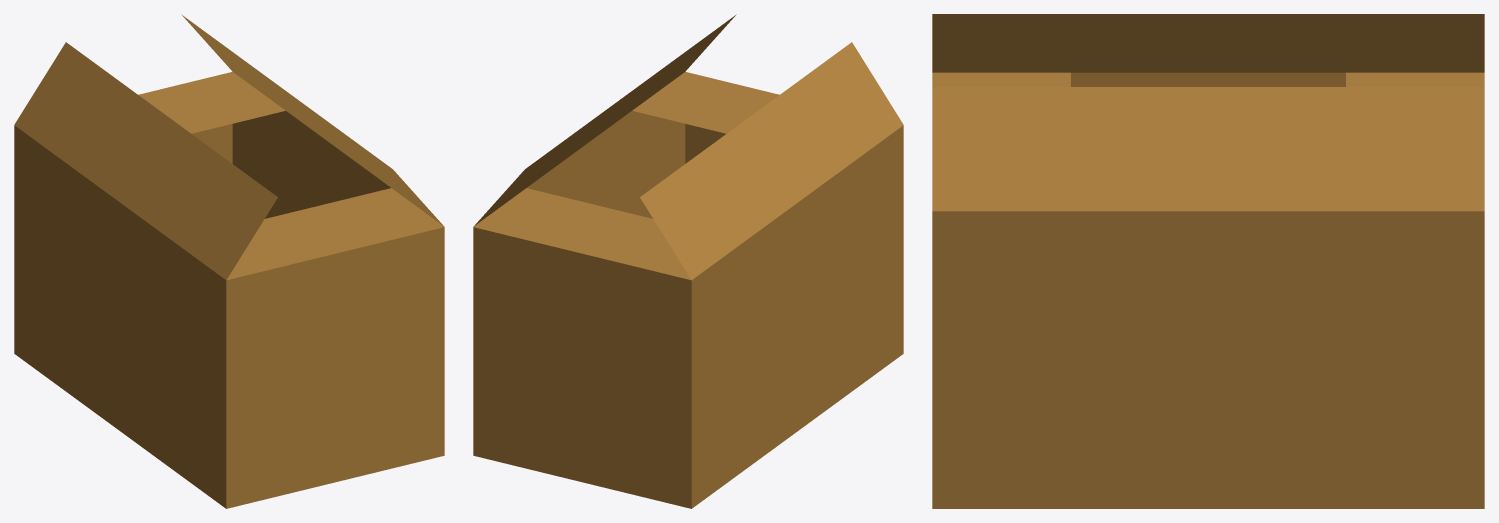
File: PapperBox.fbx
3 renders of one model, left to right at view 1: azimuth 30°, elevation 25°; view 2: azimuth 150°, elevation 25°; view 3: azimuth 270°, elevation 25°, orthographic. The views are drawn at different scales.
Parts seen in each view (by area): view 1: Cube; view 2: Cube; view 3: Cube.
Boxes of the visible parts, <box> form: Cube: <box>14,14,444,508</box>; Cube: <box>473,14,903,508</box>; Cube: <box>932,14,1484,508</box>.
Size of the model in its own units: 200 by 262 by 336.
